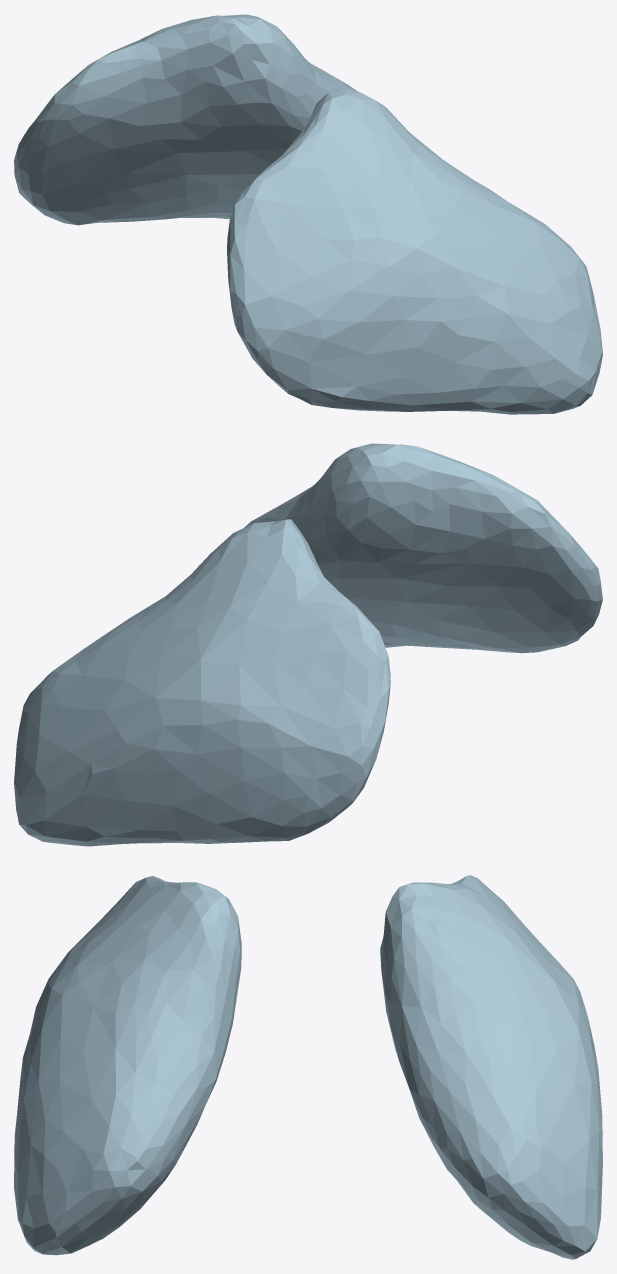
3 renders of one model, top to bottom at view 1: azimuth 30°, elevation 25°; view 2: azimuth 150°, elevation 25°; view 3: azimuth 270°, elevation 25°, orthographic.
Parts seen in each view (by area): view 1: 266.obj; view 2: 266.obj; view 3: 266.obj.
Boxes of the visible parts, x1,y1,x2,y2 form: 266.obj: [14, 14, 602, 414]; 266.obj: [14, 443, 602, 846]; 266.obj: [14, 875, 602, 1259].
Bounding box in the file's own units: 1287 × 1009 × 1810.
